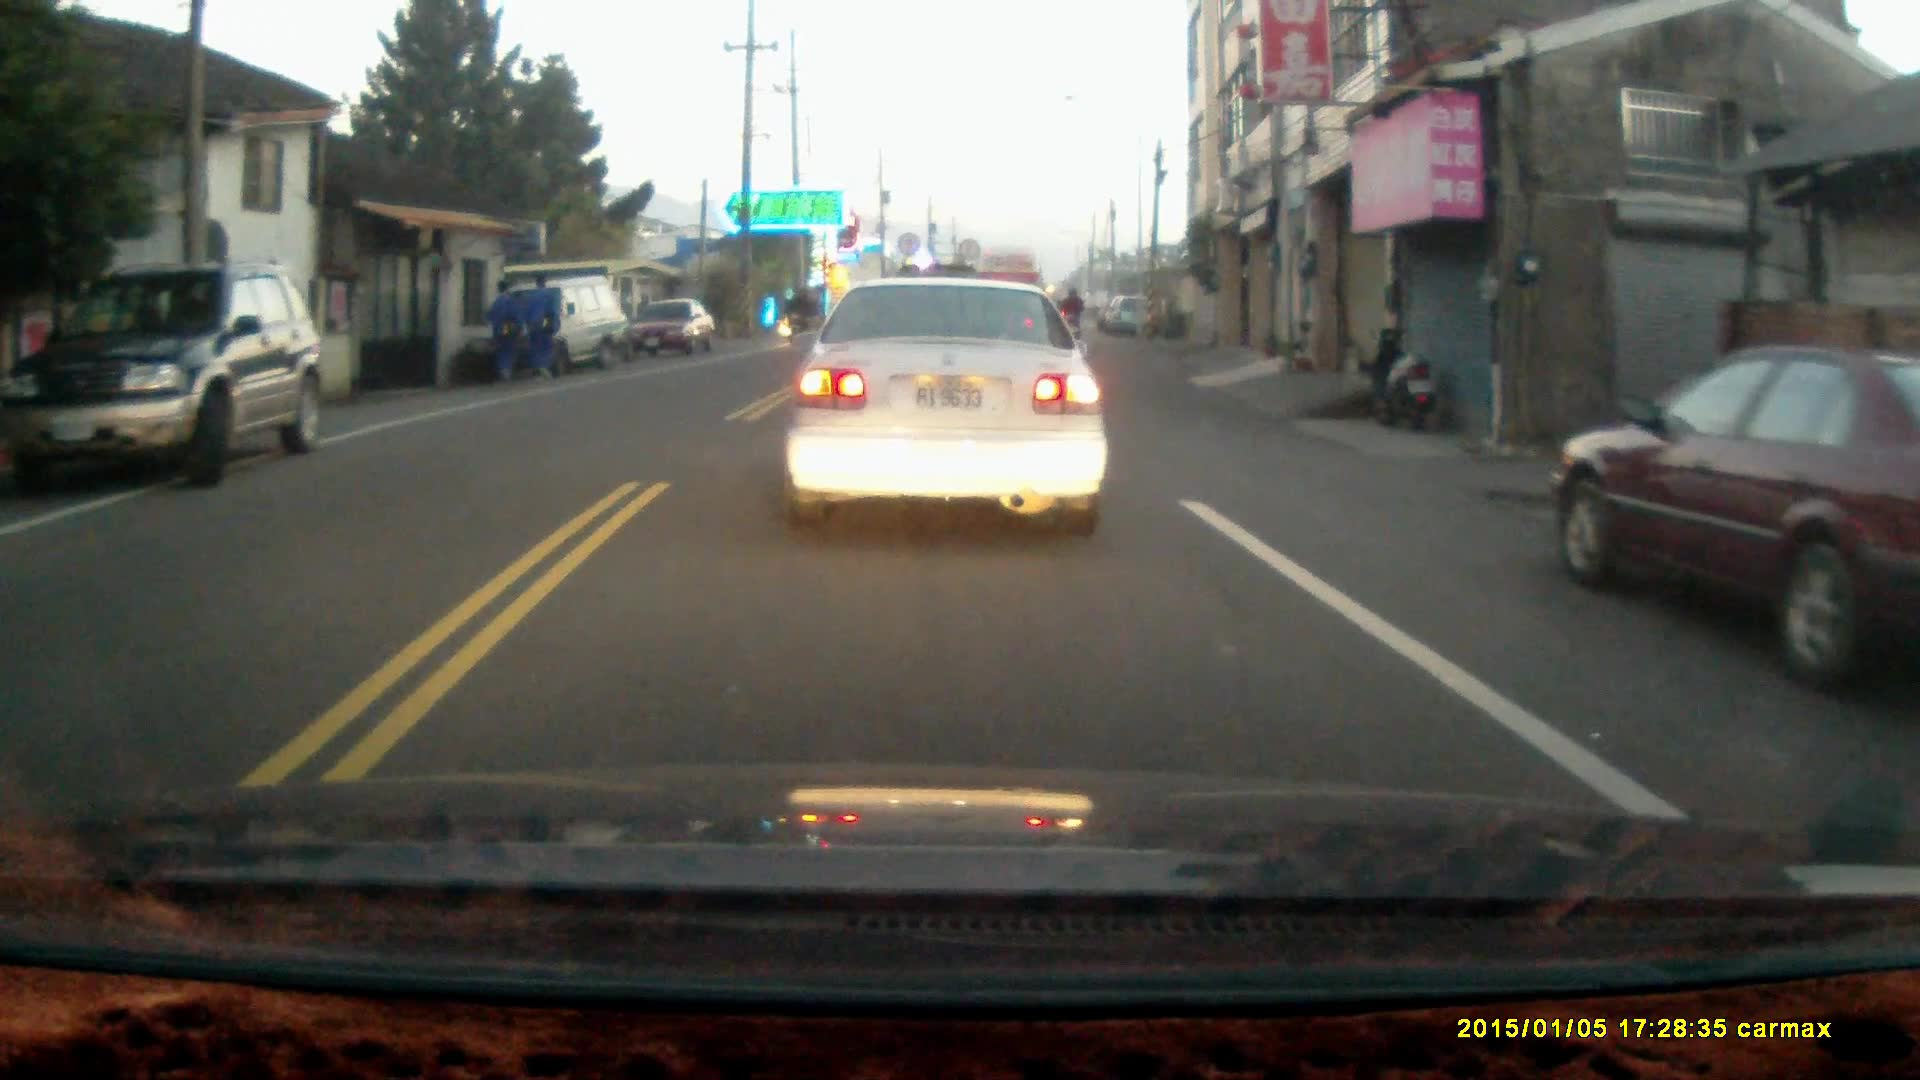pedestrian: (487, 274, 525, 391), (524, 265, 559, 381)
rider: (783, 283, 817, 342)
vehicle: (1565, 342, 1920, 695), (783, 269, 1112, 536), (20, 265, 331, 486), (499, 271, 637, 368), (621, 299, 717, 363)
